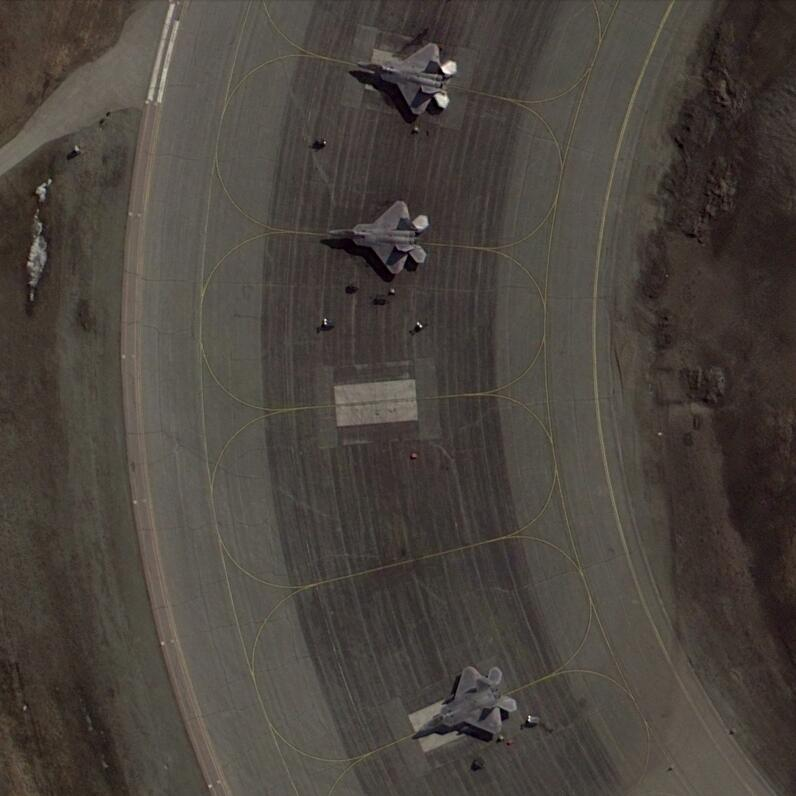A15: (407, 664, 520, 748), (321, 196, 429, 278), (350, 39, 458, 118)
